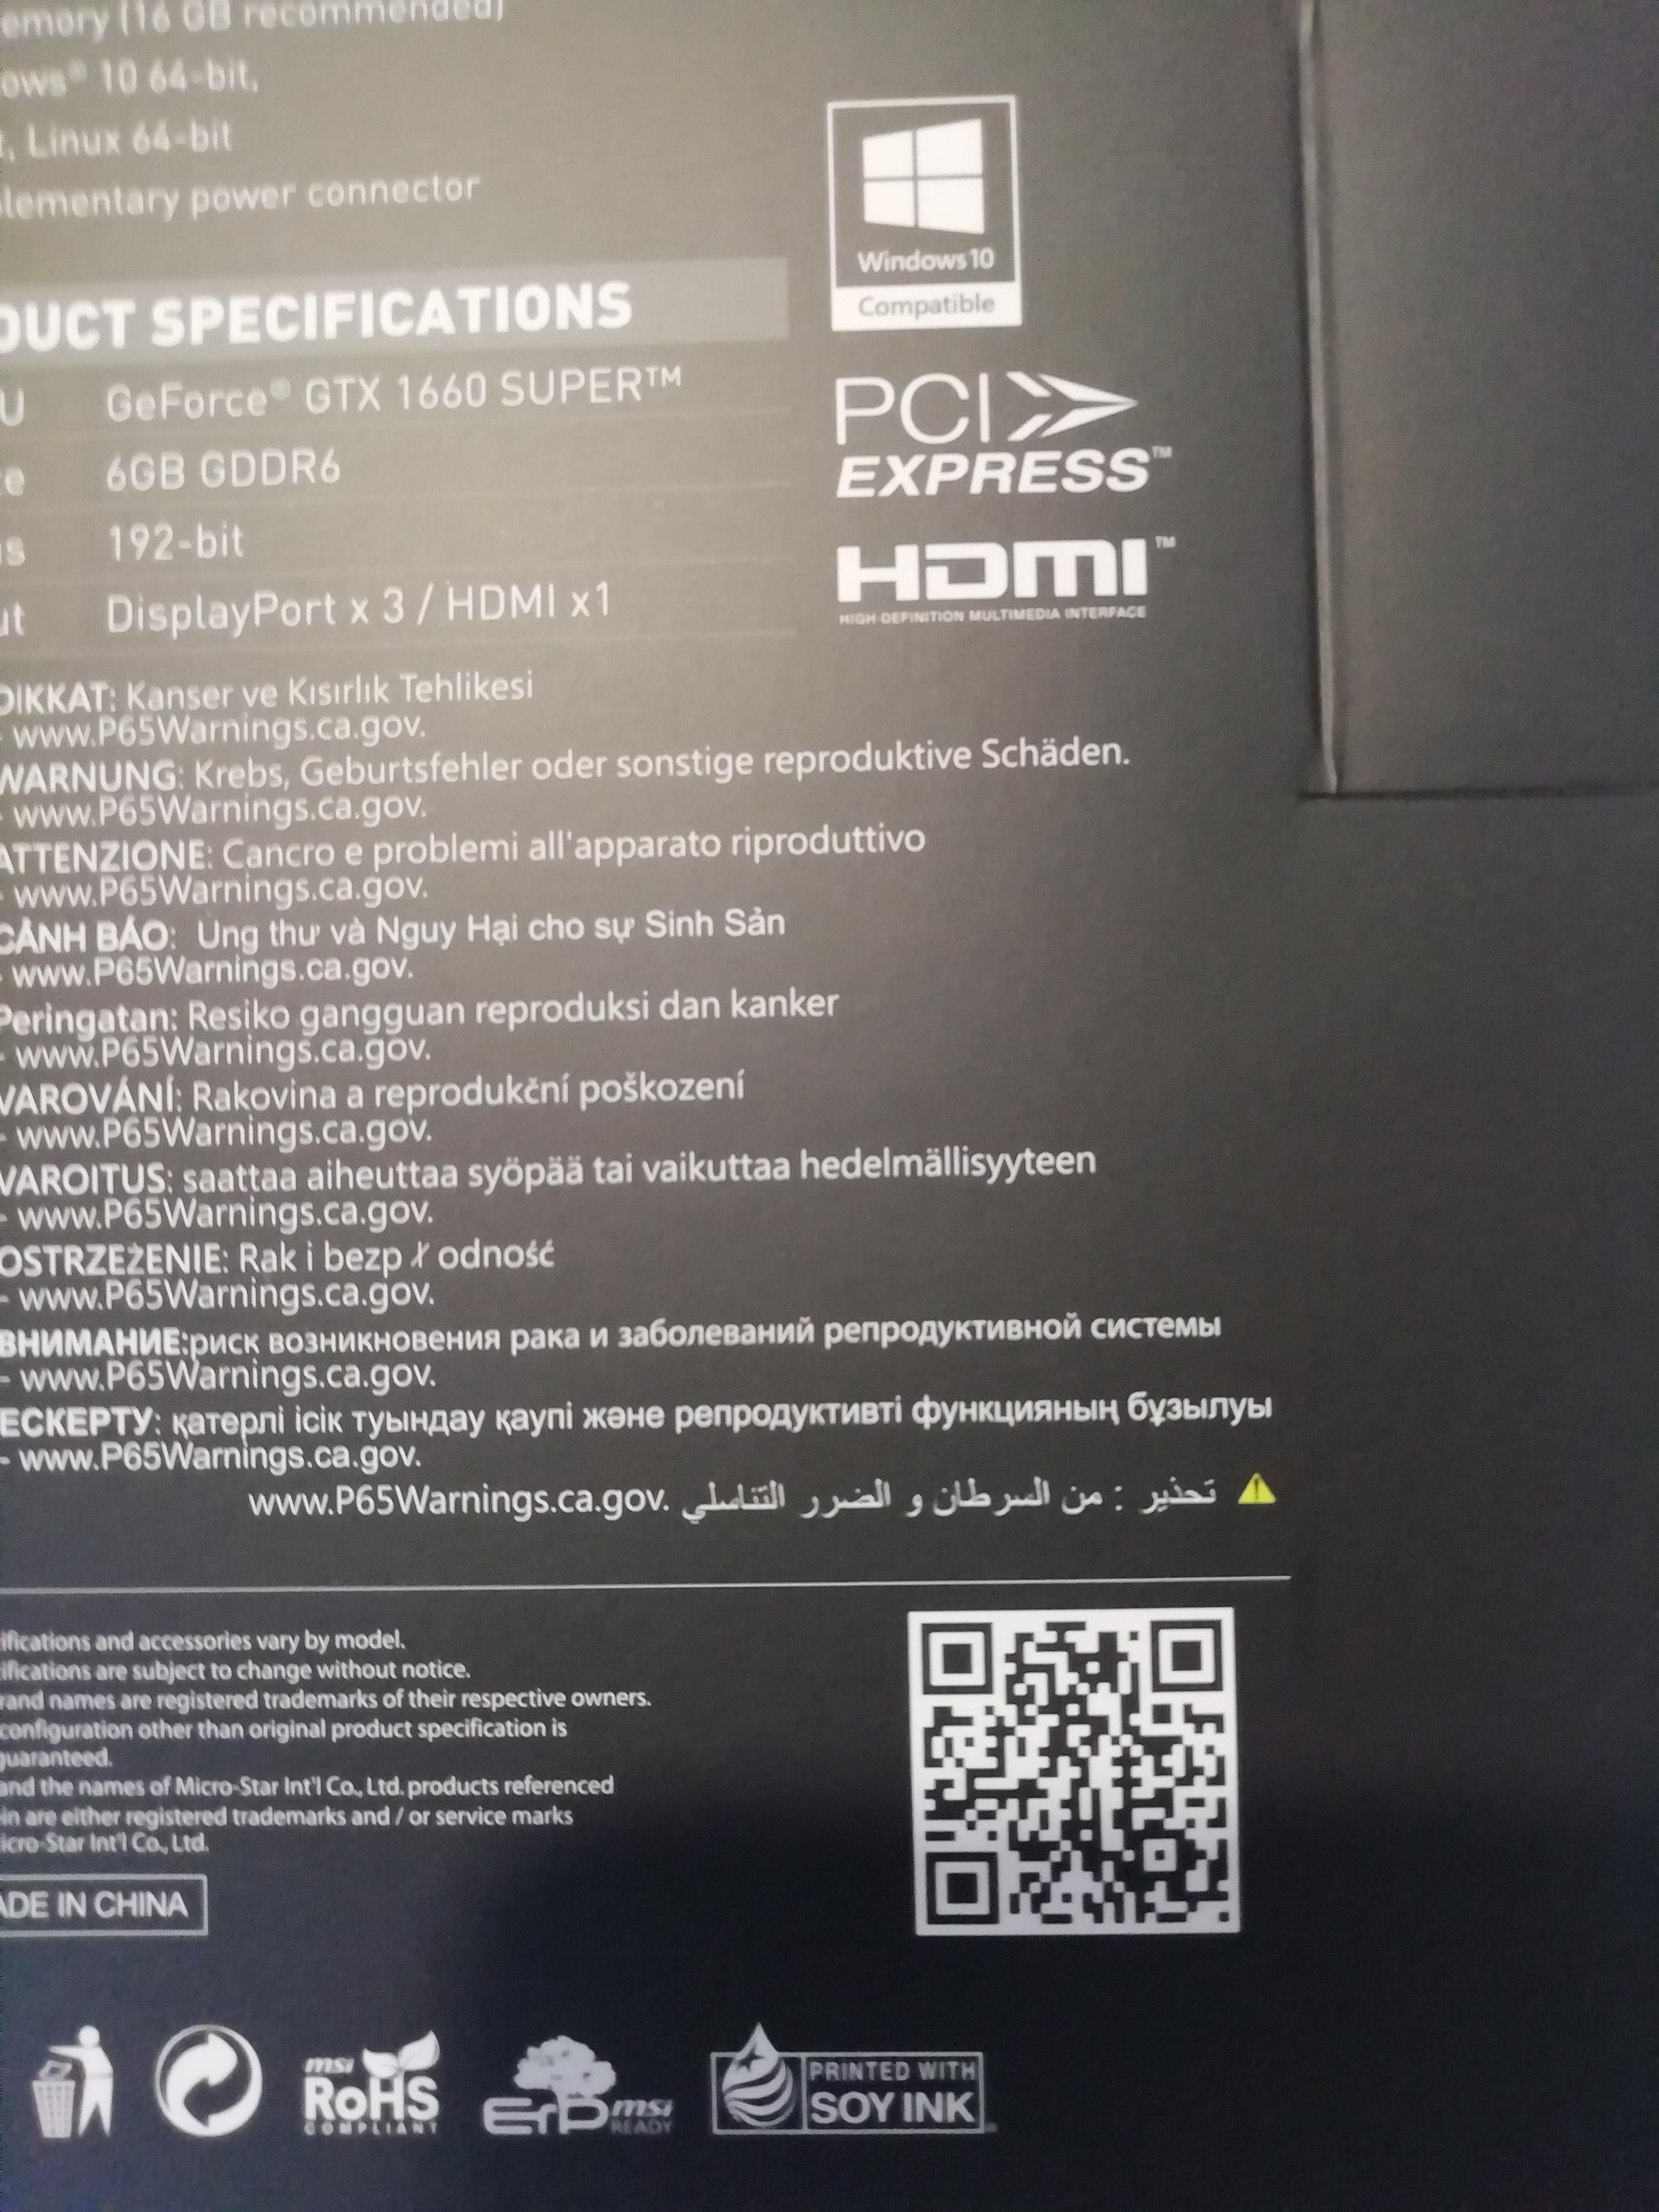qrcode: (920, 1620, 1232, 1928)
